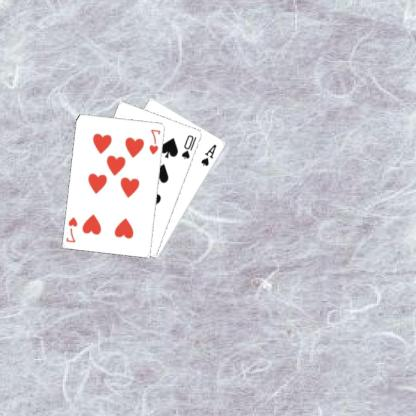10S: (181, 132, 200, 161)
7H: (149, 126, 163, 156), (66, 214, 80, 243)
AS: (200, 142, 220, 168)
